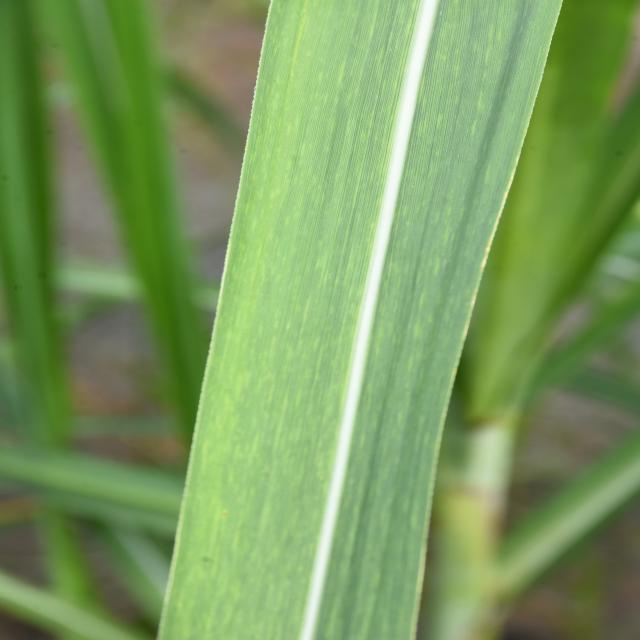Sugarcane: (162, 0, 562, 640)
